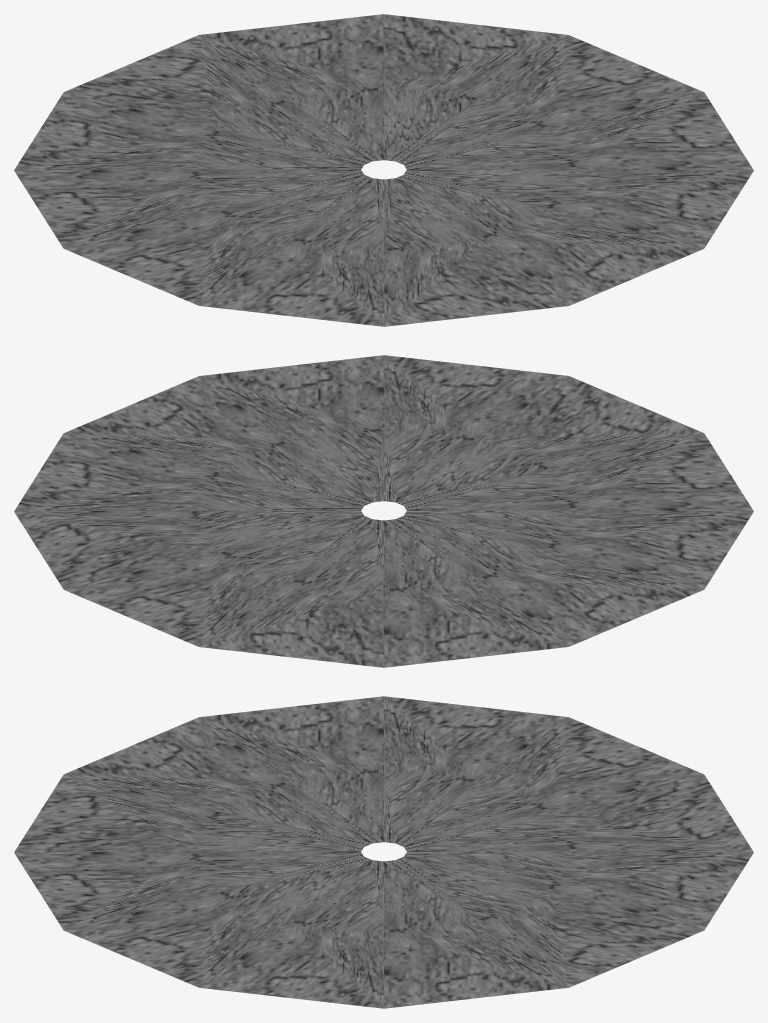
3 renders of one model, top to bottom at view 1: azimuth 30°, elevation 25°; view 2: azimuth 150°, elevation 25°; view 3: azimuth 270°, elevation 25°, orthographic.
Visible parts, largest first — view 1: mesh00; view 2: mesh00; view 3: mesh00.
Part boxes in pixels (box(x1,y1,x2,y2)): mesh00: box(14, 14, 753, 326); mesh00: box(14, 355, 753, 667); mesh00: box(14, 696, 753, 1008).
Size of the model in its own units: 979 by 1.96 by 980.
